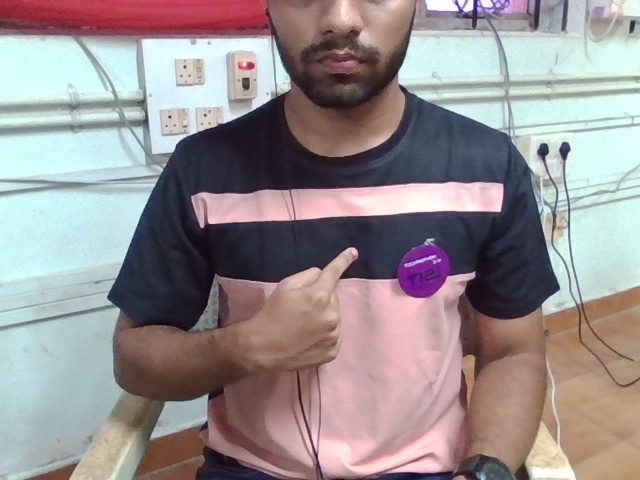my turn: (237, 218, 406, 421)
